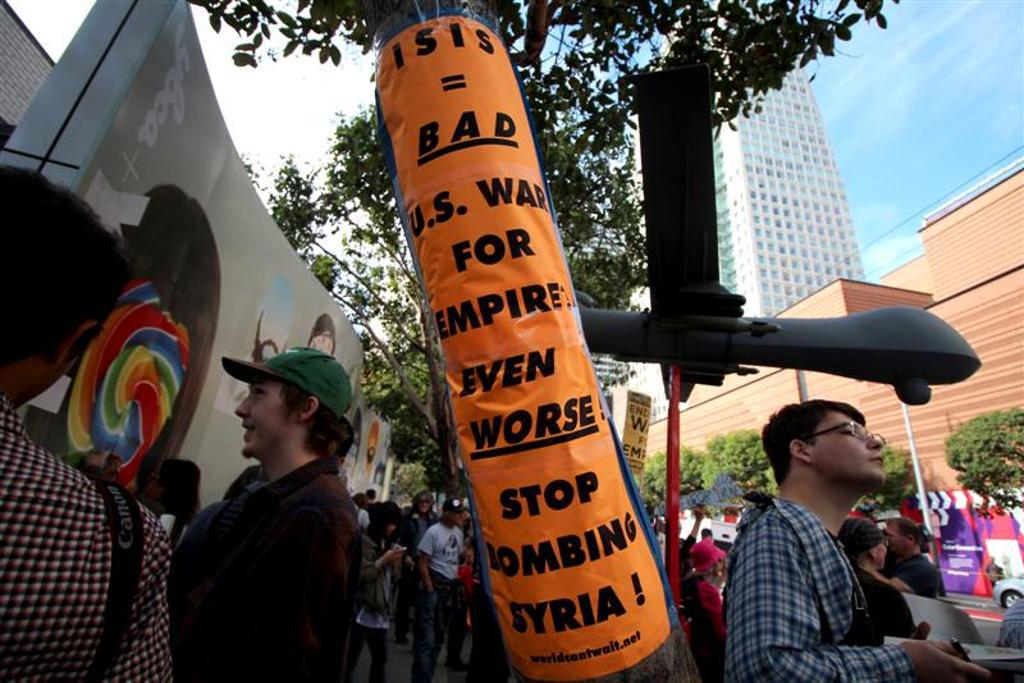face: (809, 413, 886, 490), (886, 524, 908, 553), (310, 331, 333, 358), (868, 539, 888, 569), (711, 557, 728, 583), (449, 508, 462, 523), (386, 524, 398, 540), (418, 499, 431, 512), (376, 472, 382, 482), (369, 447, 374, 458)
